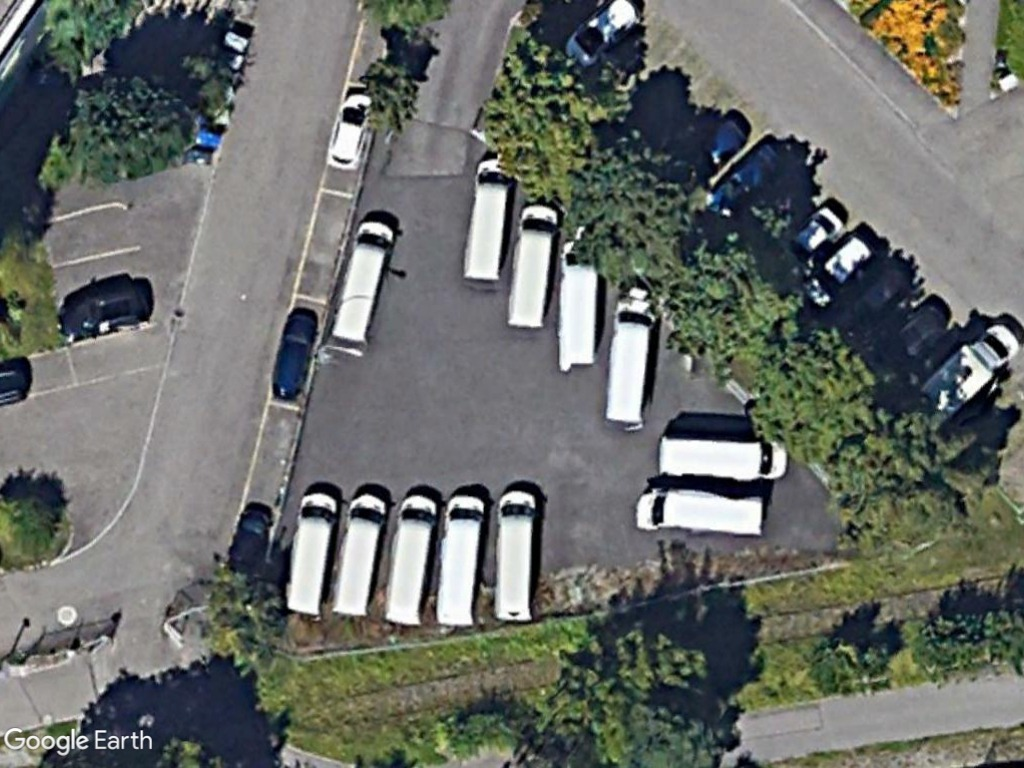car: (324, 89, 378, 172)
van: (326, 217, 397, 348), (601, 289, 661, 431), (504, 199, 565, 335), (457, 151, 517, 286), (429, 490, 487, 629), (378, 491, 436, 627), (328, 493, 389, 618), (488, 482, 540, 627), (283, 490, 340, 619), (654, 435, 792, 485)
